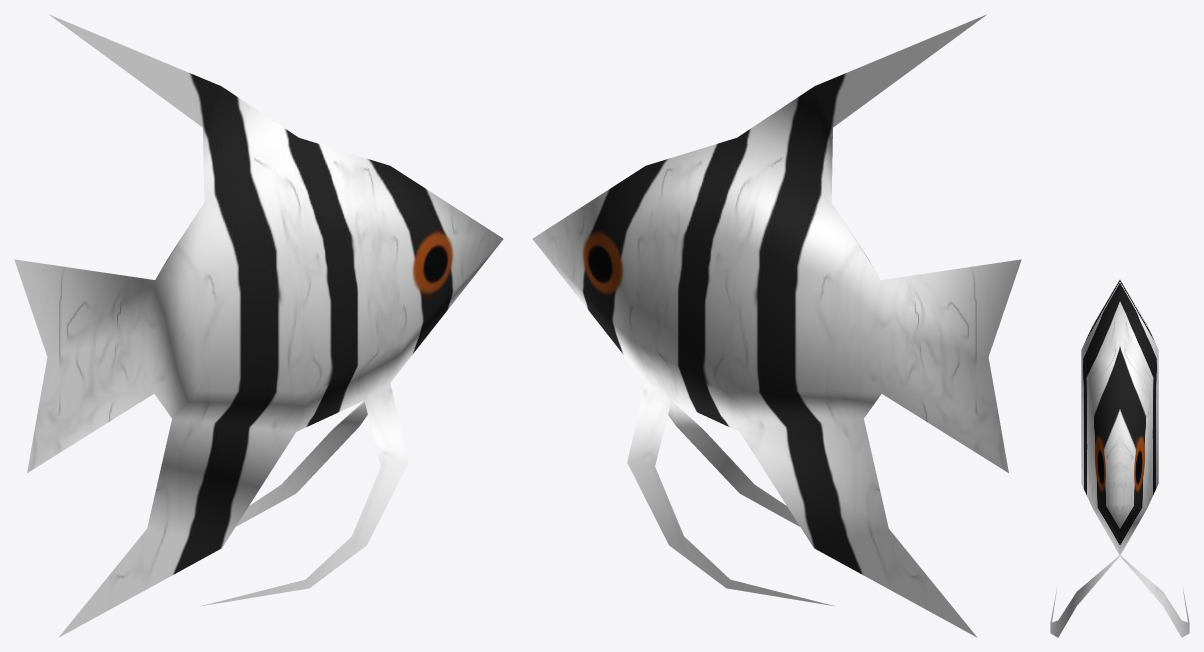
File: angelfish.glb
3 renders of one model, left to right at view 1: azimuth 30°, elevation 25°; view 2: azimuth 150°, elevation 25°; view 3: azimuth 270°, elevation 25°, orthographic. The views are drawn at different scales.
Parts seen in each view (by area): view 1: Sphere; view 2: Sphere; view 3: Sphere.
Part boxes in pixels (x1,y1,x2,y2): Sphere: [14, 14, 503, 637]; Sphere: [532, 14, 1021, 637]; Sphere: [1050, 279, 1189, 637].
Size of the model in its own units: 3.05 by 3.73 by 0.8571.
1 material, 1 textured.
